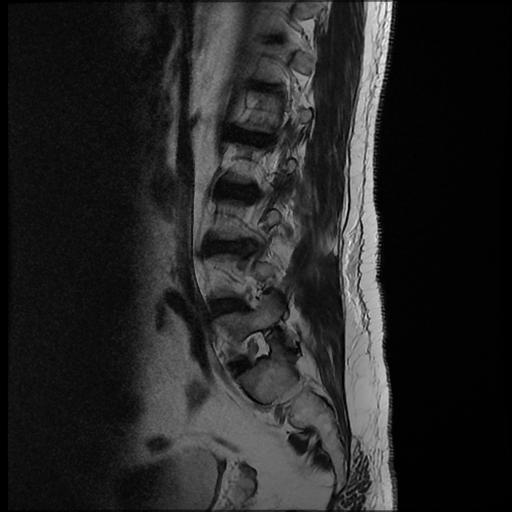RFS0: (234, 324, 277, 376)
